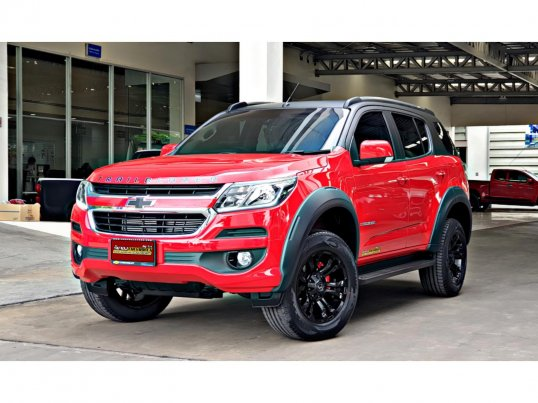pickup: (68, 95, 475, 341)
